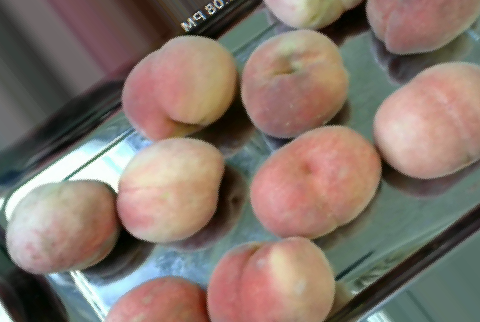Peach: (246, 123, 382, 236), (372, 59, 479, 179), (119, 34, 235, 140), (240, 27, 350, 137), (206, 236, 337, 322), (116, 137, 221, 241), (5, 180, 119, 272)
